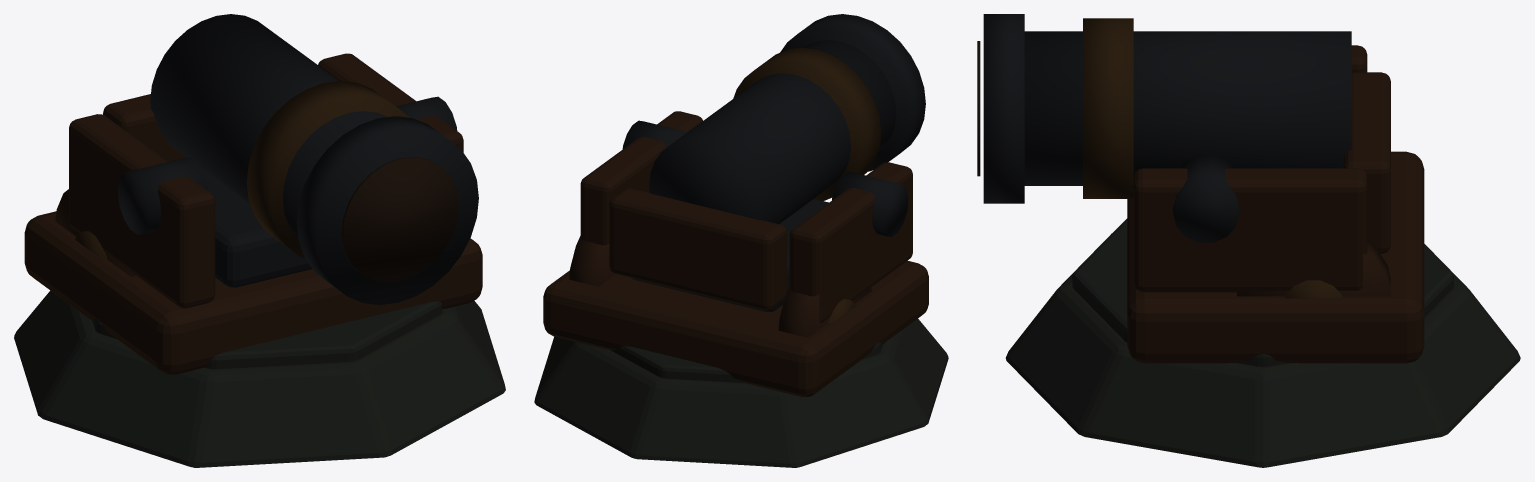
File: TowerSiege0.obj
The picture shows the model from 3 angles, left to right: view 1: azimuth 30°, elevation 25°; view 2: azimuth 150°, elevation 25°; view 3: azimuth 270°, elevation 25°; orthographic projection. The views are drawn at different scales.
Visible parts, largest first — view 1: limestone_socket_lower_course, oak_carriage, forged_mortar_barrel, carriage_cheek, black_muzzle_rim, dark_bore, bronze_reinforce_collar, limestone_socket_upper_course, iron_cradle, iron_trunnion, carriage_cheek.001, recoil_stop (+2 smaller); view 2: limestone_socket_lower_course, oak_carriage, forged_mortar_barrel, recoil_stop, carriage_cheek, black_muzzle_rim, bronze_reinforce_collar, carriage_cheek.001, iron_trunnion, limestone_socket_upper_course, wood_wheel, wood_wheel.001 (+2 smaller); view 3: limestone_socket_lower_course, forged_mortar_barrel, oak_carriage, carriage_cheek.001, bronze_reinforce_collar, black_muzzle_rim, recoil_stop, limestone_socket_upper_course, iron_trunnion.001, wood_wheel.001, bronze_hub.001.
Boxes of the visible parts, x1,y1,x2,y2 form: limestone_socket_lower_course: (14, 290, 505, 467); oak_carriage: (24, 211, 482, 374); forged_mortar_barrel: (150, 14, 387, 238); carriage_cheek: (69, 114, 215, 308); black_muzzle_rim: (296, 116, 478, 304); dark_bore: (341, 157, 458, 282); bronze_reinforce_collar: (246, 81, 409, 258); limestone_socket_upper_course: (92, 301, 442, 369); iron_cradle: (201, 168, 312, 287); iron_trunnion: (117, 157, 208, 234); carriage_cheek.001: (318, 53, 463, 152); recoil_stop: (103, 94, 186, 161); limestone_socket_lower_course: (534, 319, 948, 467); oak_carriage: (543, 260, 928, 397); forged_mortar_barrel: (649, 40, 896, 223); recoil_stop: (609, 188, 786, 310); carriage_cheek: (789, 162, 912, 323); black_muzzle_rim: (780, 14, 925, 171); bronze_reinforce_collar: (733, 47, 881, 200); carriage_cheek.001: (580, 111, 702, 271); iron_trunnion: (832, 171, 908, 236); limestone_socket_upper_course: (610, 342, 882, 382); wood_wheel: (778, 286, 871, 337); wood_wheel.001: (569, 236, 615, 286); limestone_socket_lower_course: (1005, 233, 1520, 467); forged_mortar_barrel: (1024, 31, 1351, 185); oak_carriage: (1127, 151, 1424, 363); carriage_cheek.001: (1133, 168, 1367, 292); bronze_reinforce_collar: (1083, 18, 1133, 198); black_muzzle_rim: (983, 14, 1024, 203); recoil_stop: (1343, 72, 1390, 253); limestone_socket_upper_course: (1072, 218, 1453, 366); iron_trunnion.001: (1173, 154, 1239, 242); wood_wheel.001: (1237, 239, 1390, 296); bronze_hub.001: (1285, 280, 1342, 298).
Size of the model in its own units: 1.63 by 1.18 by 1.72.
